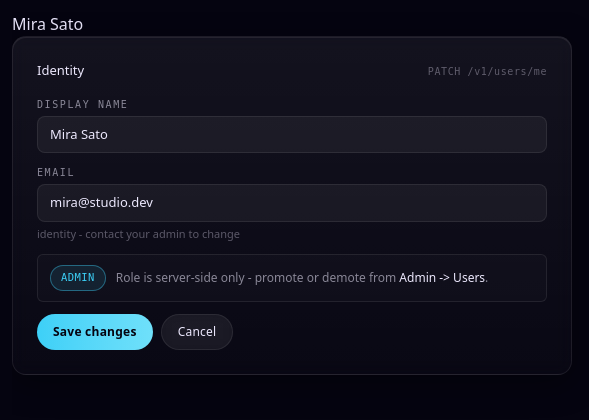
Test case: a no-op Save after a failed save clears the stale error banner
Expected: the text with test id "probe-name" reads "Mira Sato", x1=12 y1=13 x2=83 y2=35
Clear the field labelled "Display name" at coordinates (292, 134), box x1=37 y1=116 x2=547 y2=153
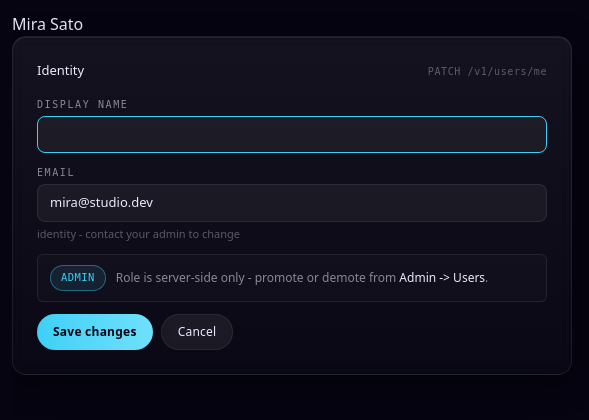
Click the button "Save changes" at coordinates (95, 332), box x1=37 y1=314 x2=153 y2=350
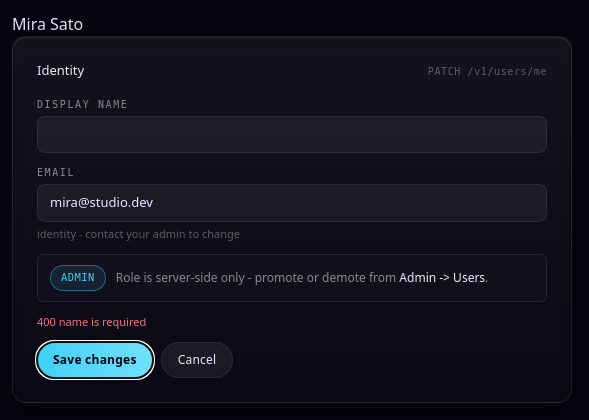
Expected: the message reads "400 name is required", x1=37 y1=314 x2=146 y2=329
Type "Mira Sato" into the field labelled "Display name" at coordinates (292, 134), box x1=37 y1=116 x2=547 y2=153
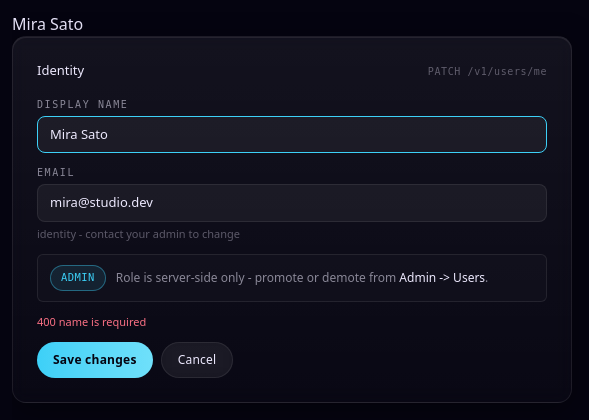
Click the button "Save changes" at coordinates (95, 360), box x1=37 y1=342 x2=153 y2=378
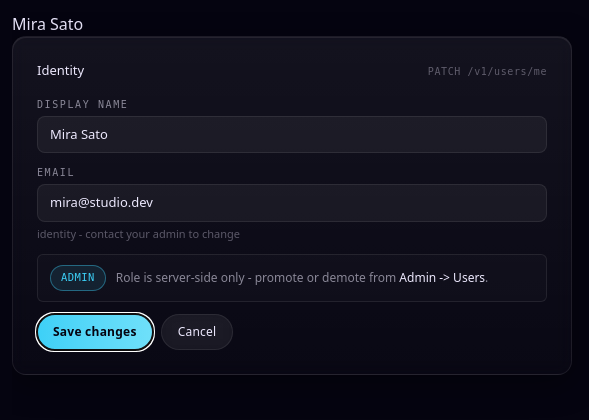
Expected: the message "400 name is required" is gone
